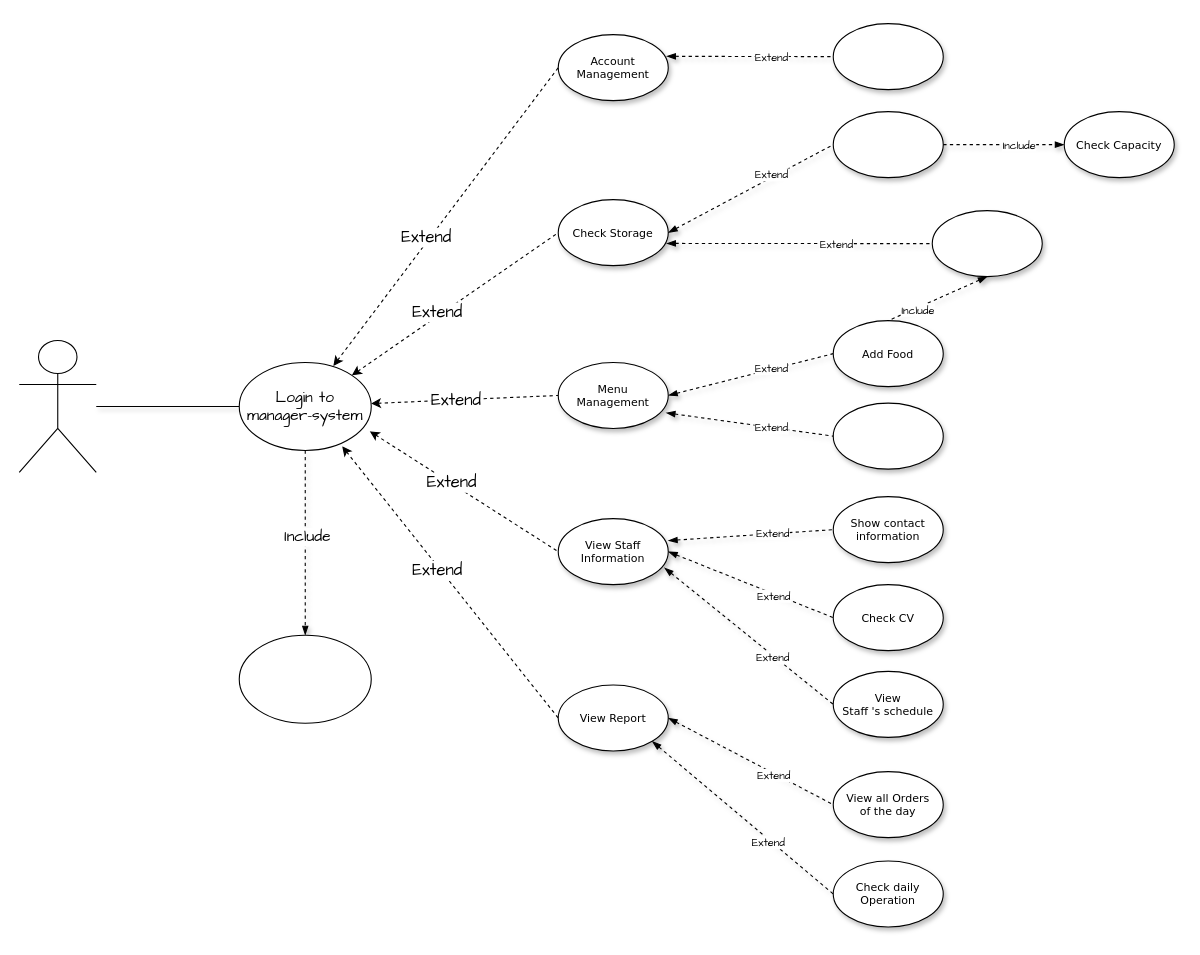
The diagram is 1200 pixels wide and 955 high, and some of its shapes have lost their labels. Here are the shapes that lost their labels. From the top down, the centre of each, then its label:
At [889,57]: "Show order history".
At [889,145]: "Import More Food".
At [988,244]: "Check Out-of-date".
At [57,405]: "Manager".
At [889,437]: "Remove Food".
At [304,678]: "Verify Manager Permission".
